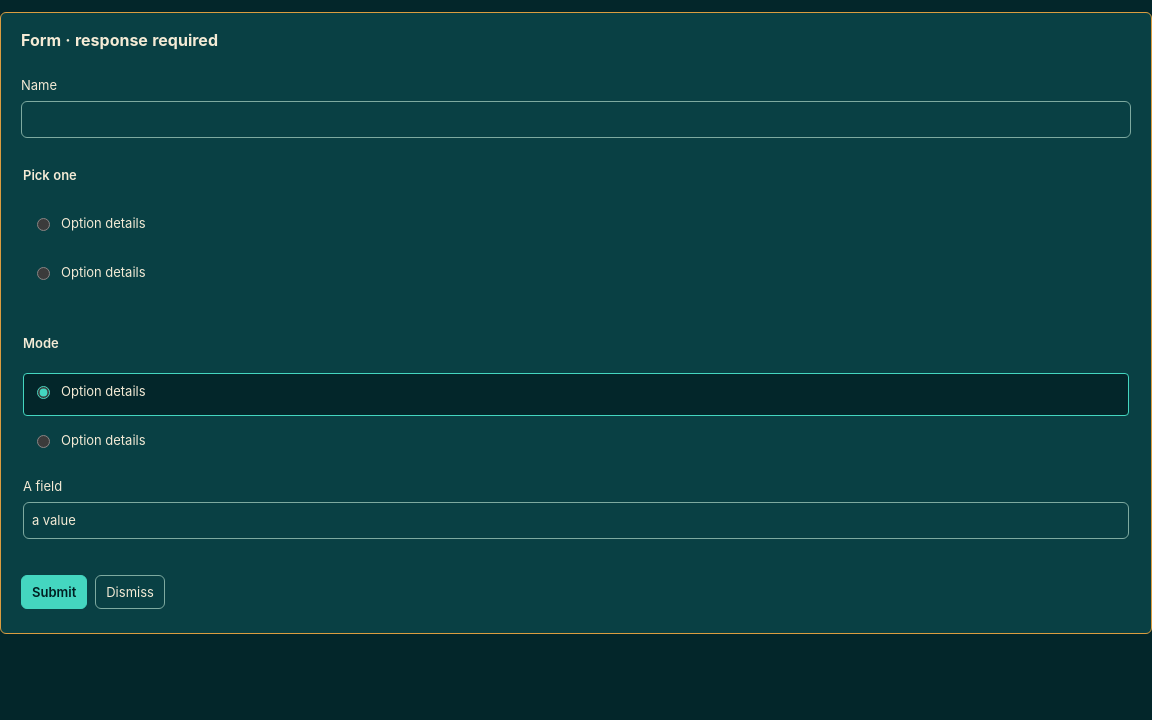
Test case: mounted actor forms › sends Dismiss with secure browser randomness when randomUUID is absent
Type "HTTP draft" into the field labelled "Name" at (576, 119), box [21,101,1131,138]
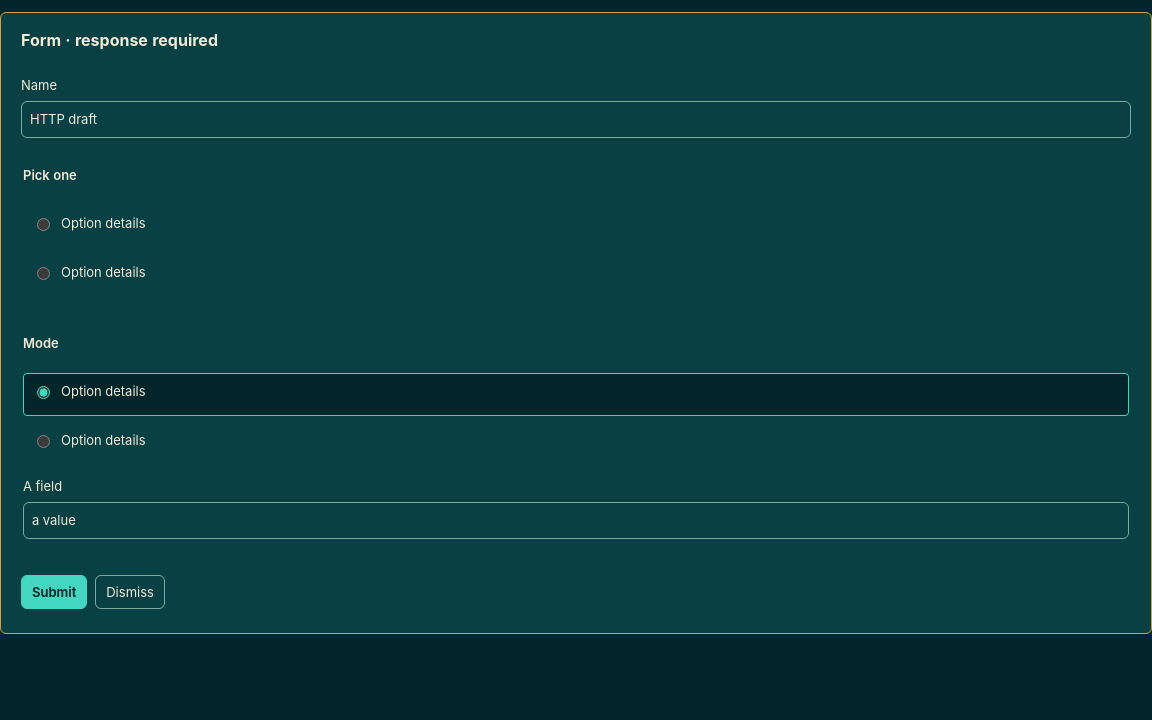
Click the button "Dismiss" at (130, 592), box [95,575,165,609]
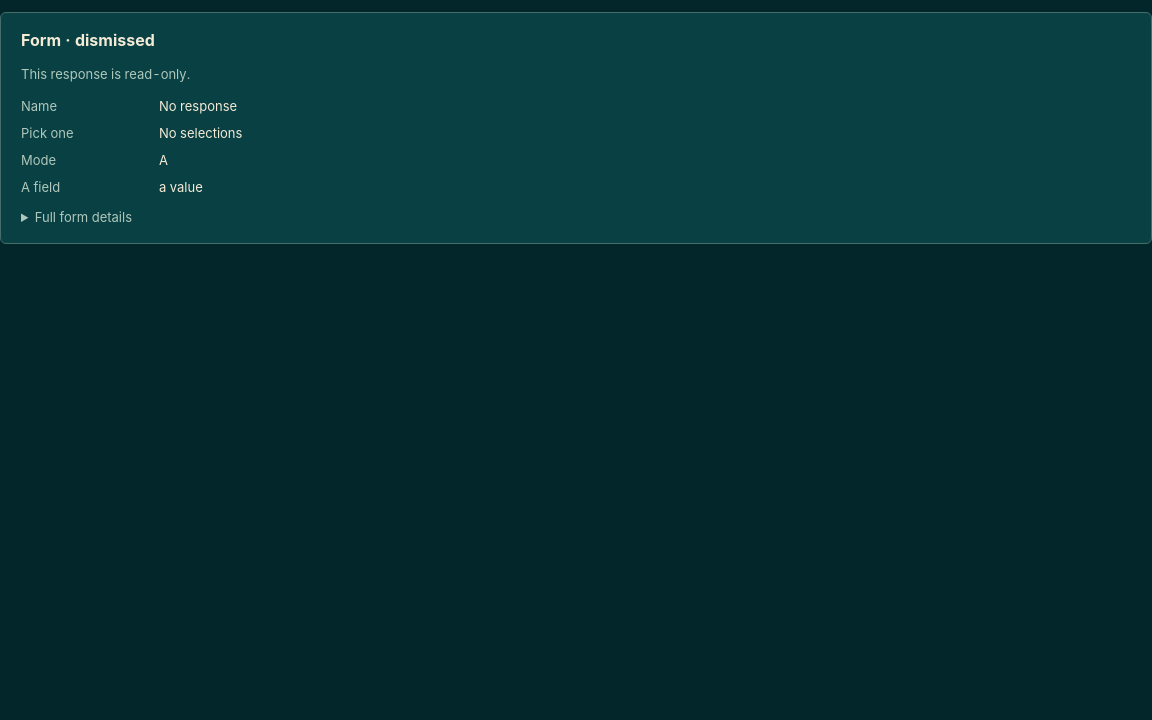
Check: the button "Submit" is gone
